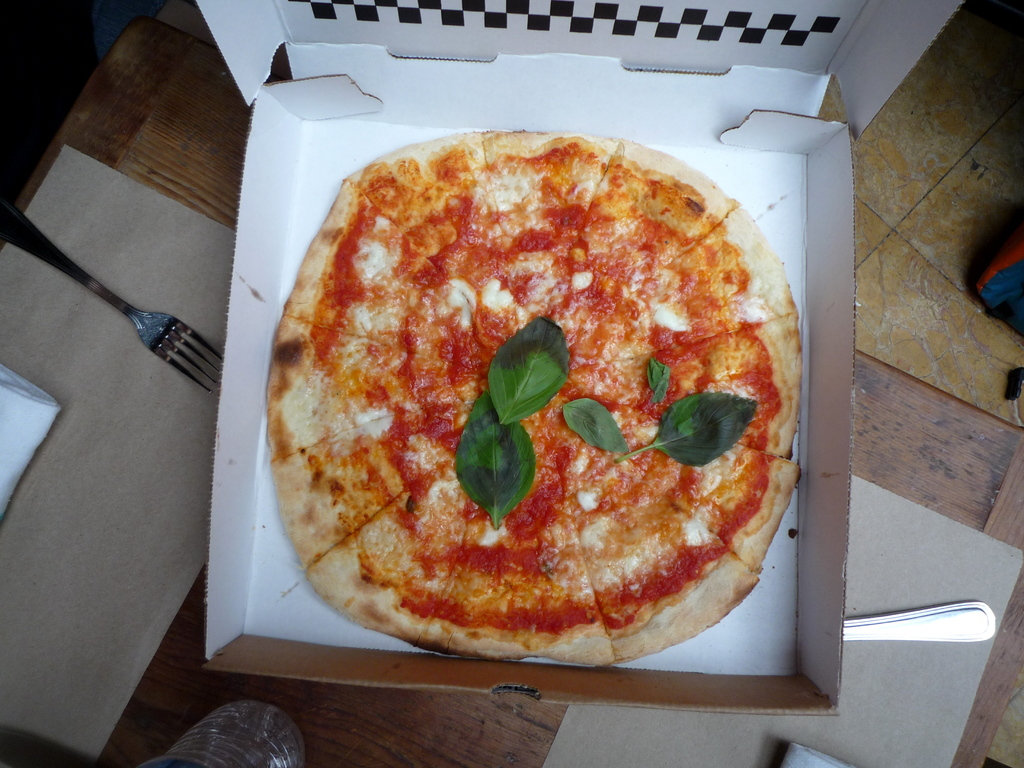Pizza: (265, 122, 805, 660)
